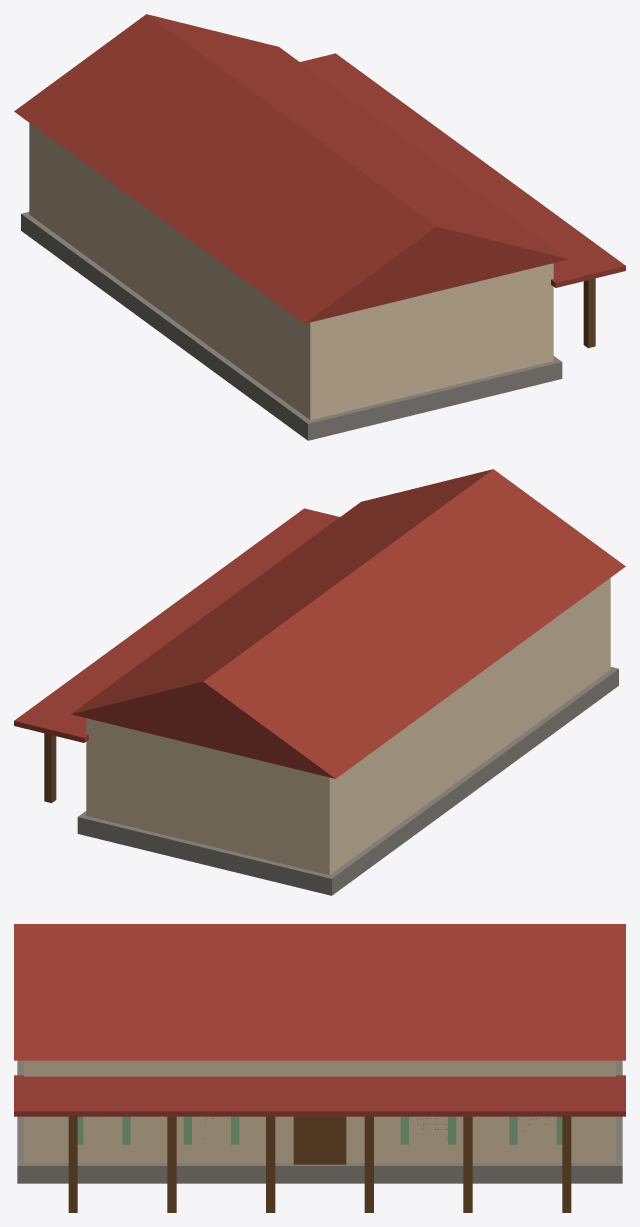
File: casona_colonial.obj
3 views of the same model, one above another, from view 1: azimuth 30°, elevation 25°; view 2: azimuth 150°, elevation 25°; view 3: azimuth 270°, elevation 25° (orthographic). The views are drawn at different scales.
Visible parts, largest first — view 1: casona_colonial; view 2: casona_colonial; view 3: casona_colonial.
Part boxes in pixels (left/top/right/bottom): casona_colonial: left=14, top=14, right=625, bottom=440; casona_colonial: left=14, top=469, right=625, bottom=895; casona_colonial: left=14, top=924, right=625, bottom=1212.
Bounding box in the file's own units: 11.9 × 6.52 × 18.6.
